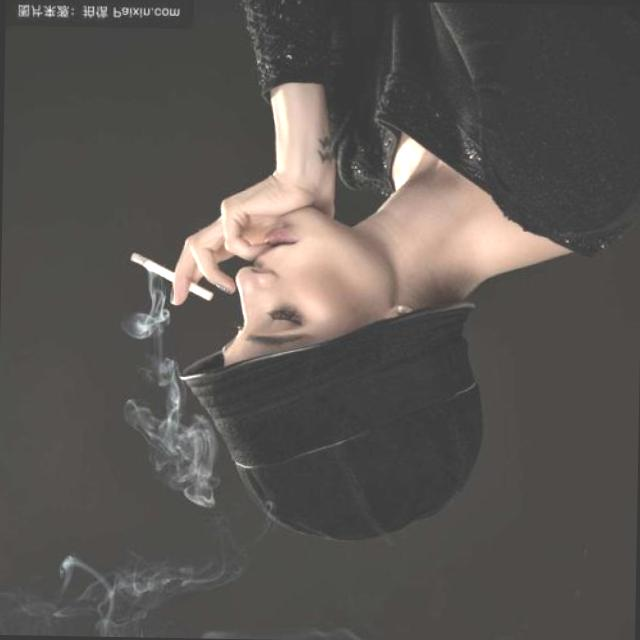smoke: (132, 250, 178, 284)
